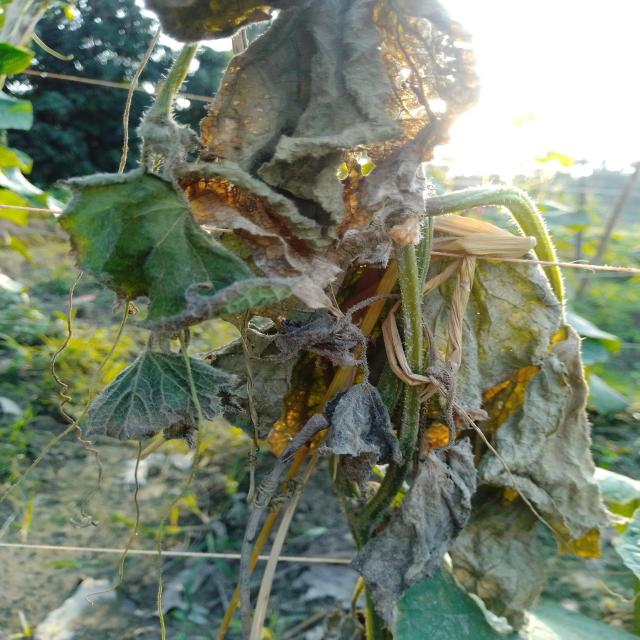cucumber_bacterial: (367, 186, 615, 633), (181, 0, 476, 207), (70, 110, 329, 320), (224, 304, 398, 504), (74, 338, 223, 480)
